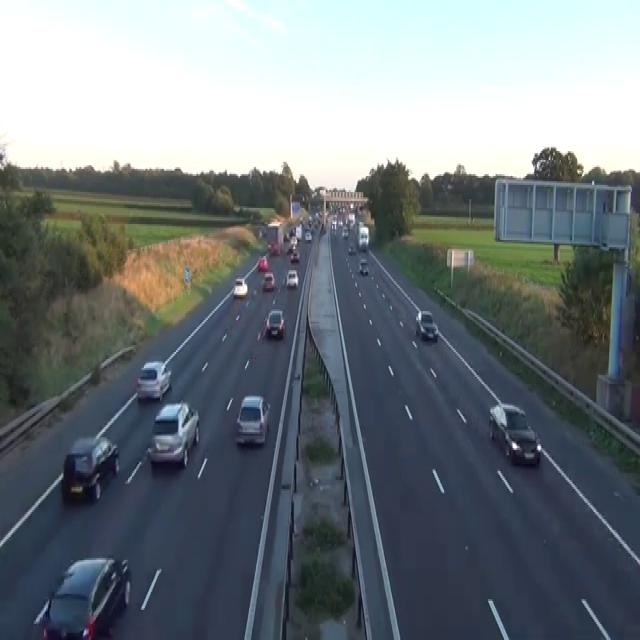Car: (33, 555, 130, 638), (62, 434, 119, 501), (146, 400, 200, 468), (488, 402, 541, 466), (235, 394, 270, 444), (135, 359, 171, 402), (415, 309, 438, 342), (266, 309, 285, 338), (233, 277, 247, 297), (286, 268, 298, 288), (262, 272, 274, 290), (267, 240, 280, 254), (257, 254, 268, 270), (358, 258, 368, 274), (290, 249, 300, 263), (288, 237, 297, 250), (347, 242, 356, 254), (304, 229, 312, 242), (358, 237, 366, 250), (259, 224, 267, 236), (287, 242, 295, 252), (289, 226, 296, 236), (307, 215, 313, 226), (342, 228, 348, 238), (321, 222, 326, 233), (283, 231, 288, 242), (358, 220, 364, 228), (337, 218, 343, 226), (331, 220, 335, 230)
Truck: (358, 224, 369, 251)
